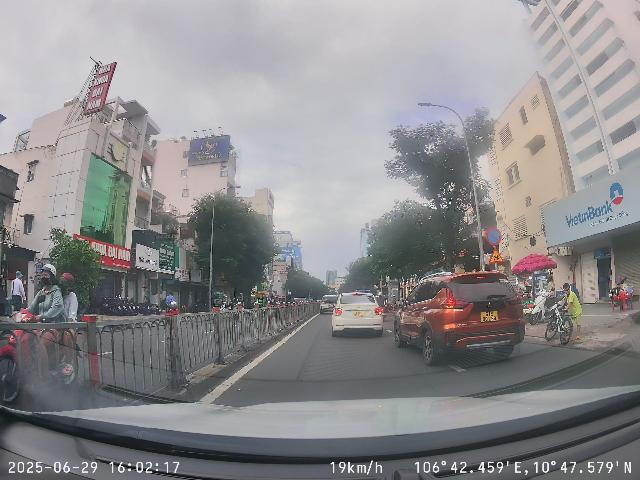131a-cam-do-xe: (486, 227, 502, 246)
225-chu-y-tre-em: (489, 247, 504, 262)
